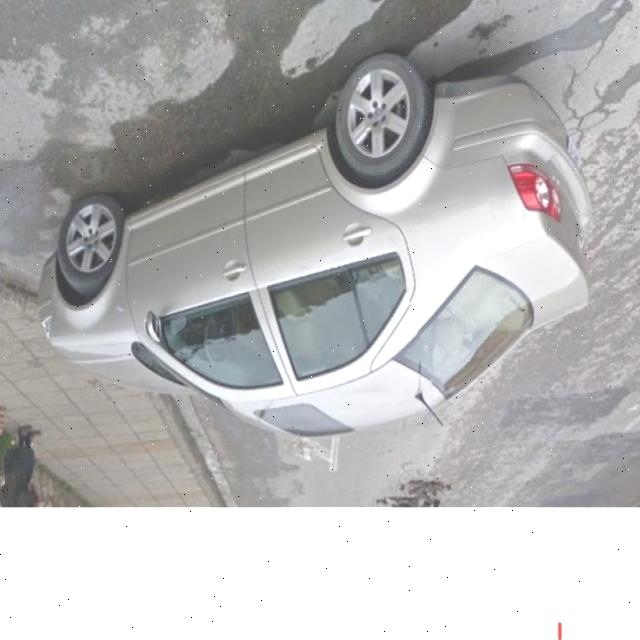car: (46, 51, 600, 443)
